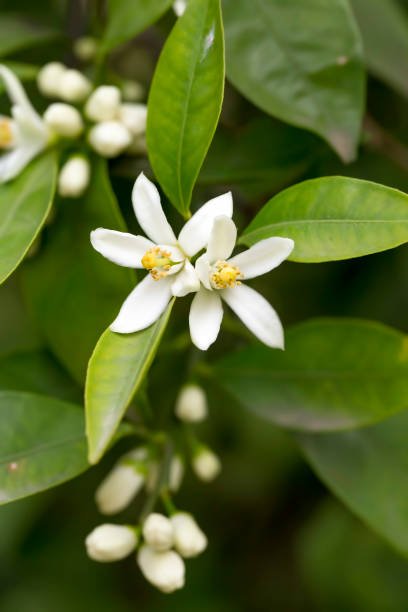flower: (68, 170, 241, 350), (187, 217, 304, 359)
